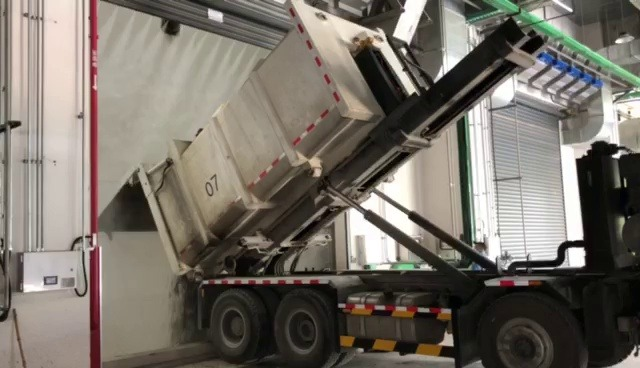dust: (107, 77, 205, 173), (103, 235, 174, 346)
truck: (136, 1, 639, 368)
